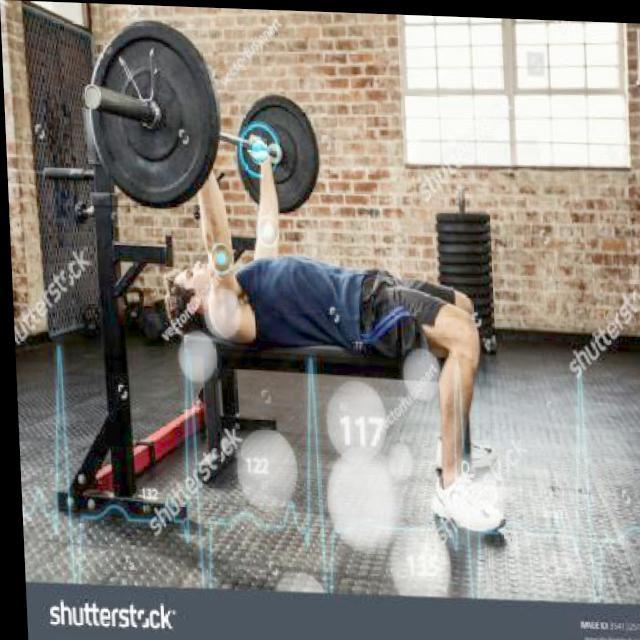barbell: (80, 20, 228, 216)
